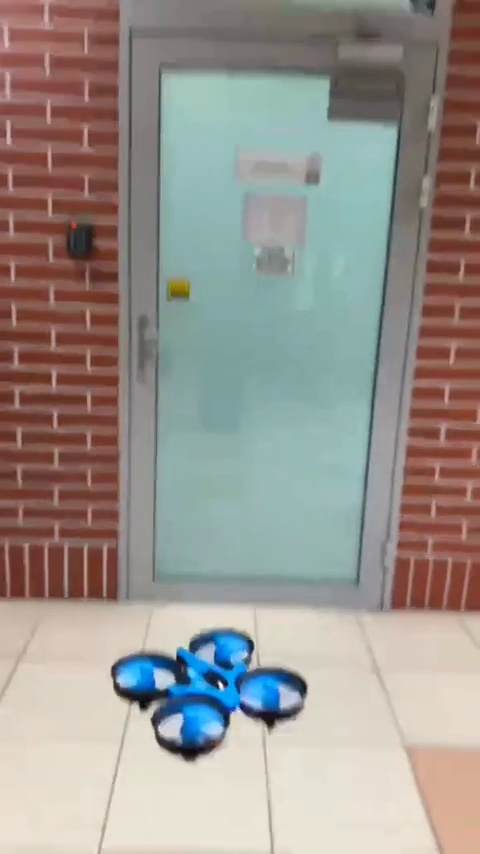drone: (114, 626, 310, 760)
